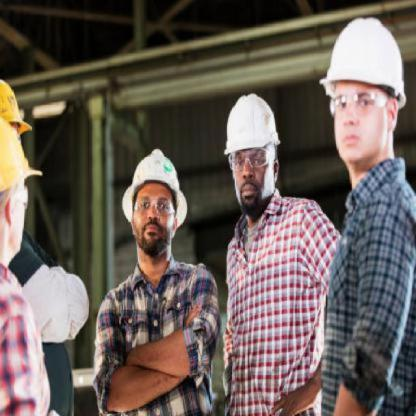glass: (326, 88, 388, 119), (224, 146, 273, 173), (131, 193, 175, 218)
person: (314, 4, 415, 416), (213, 80, 327, 415), (86, 142, 224, 412)
white-helm: (313, 11, 412, 100), (118, 146, 194, 213), (218, 90, 287, 158)
